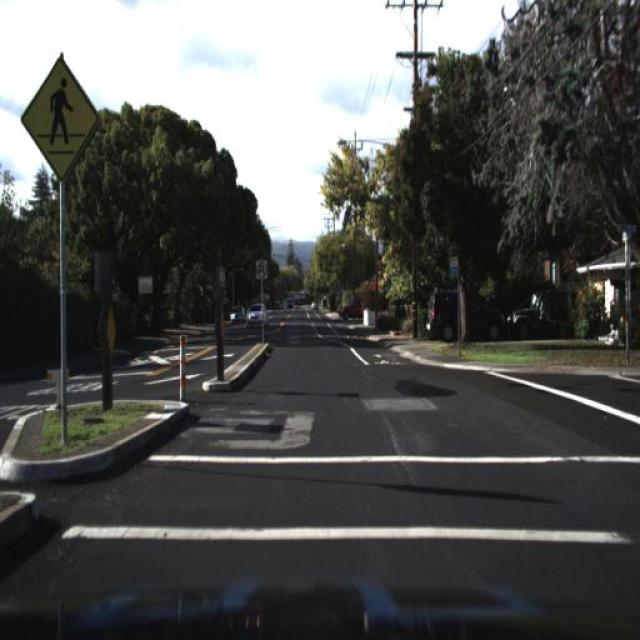car: (504, 281, 577, 347), (427, 280, 499, 342), (242, 295, 272, 334), (337, 294, 369, 324)
